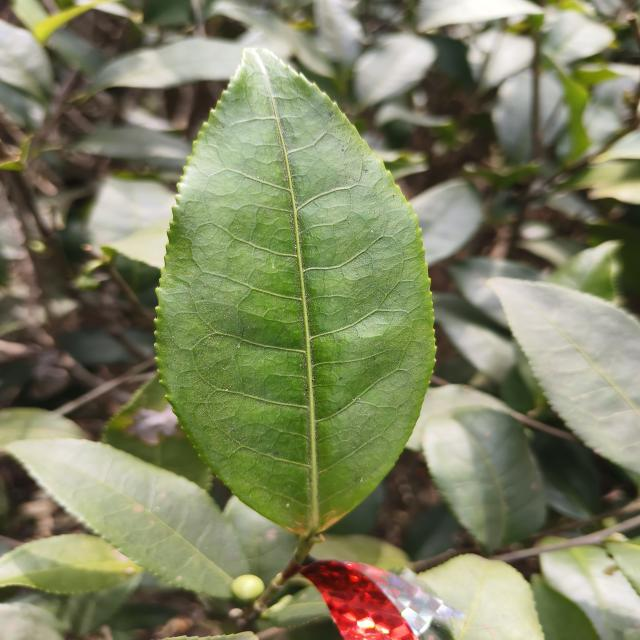Leaf: (156, 49, 434, 537), (8, 439, 249, 598), (490, 278, 640, 473), (422, 407, 546, 551), (102, 374, 211, 489), (419, 554, 544, 640), (88, 177, 175, 292), (540, 546, 640, 640), (0, 534, 142, 594), (91, 37, 244, 92), (433, 293, 514, 383), (410, 179, 483, 272), (448, 256, 542, 328), (531, 432, 601, 519), (354, 32, 437, 105), (75, 125, 191, 169), (547, 240, 621, 301), (0, 19, 53, 103), (543, 10, 614, 68), (468, 30, 534, 88), (0, 408, 84, 448)
